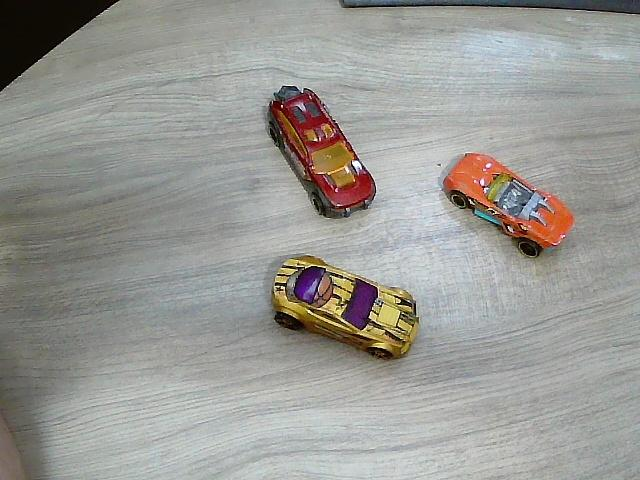Carro: (271, 256, 420, 362), (269, 87, 376, 220), (443, 154, 574, 254)
